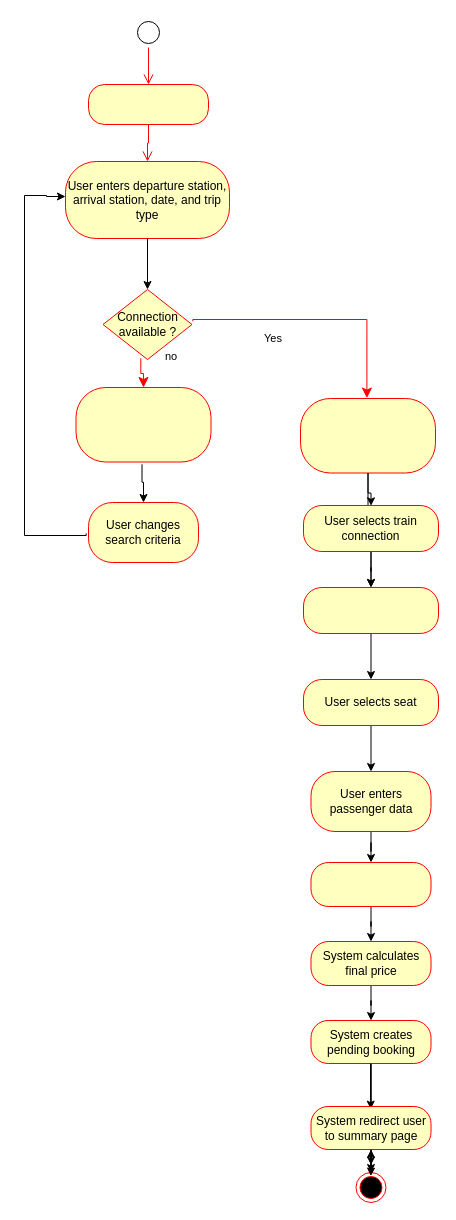
This 456x1220 diagram has some shape labels left out. The box of each missing label's shape, as (x1, y1, x2, y2) in pixels:
System displays a no connections message: (75, 386, 211, 462)
System displays matching connections: (300, 398, 436, 473)
System displays trip details: (302, 586, 438, 634)
User addes optional extras: (310, 862, 431, 906)
User opens homepage: (88, 84, 208, 124)
